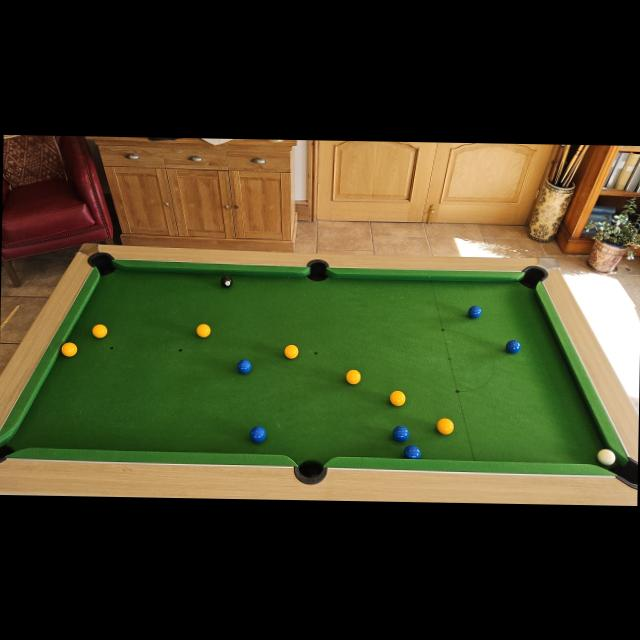Ball: (598, 448, 616, 466), (249, 426, 267, 442), (403, 444, 420, 460), (392, 425, 408, 442), (437, 418, 453, 434), (60, 342, 76, 357), (505, 338, 520, 354), (390, 391, 405, 406), (346, 369, 360, 384), (92, 324, 106, 338), (197, 324, 211, 338), (284, 344, 298, 358), (467, 306, 481, 320), (236, 358, 250, 372), (220, 276, 233, 288)
